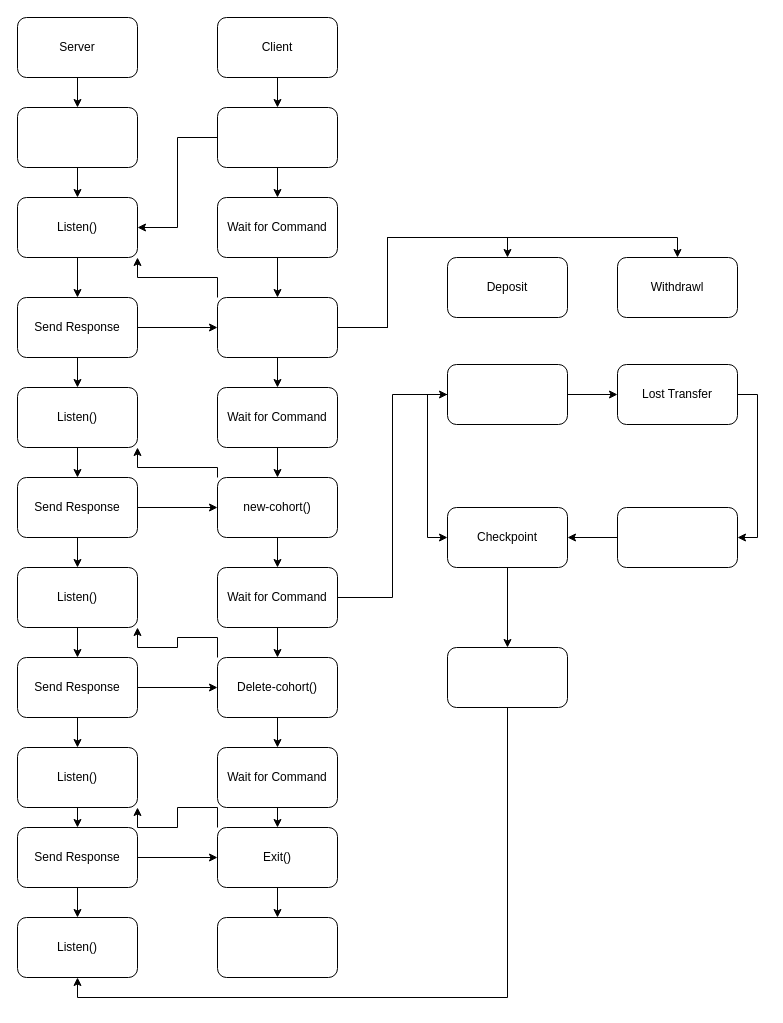
The diagram is 783 pixels wide and 1023 high, and some of its shapes have lost their labels. Each missing label, with the box of its shape:
Bind(): (16, 106, 138, 168)
close(): (216, 916, 338, 978)
Connect(): (216, 106, 338, 168)
Open(): (216, 296, 338, 358)
Rollback: (616, 506, 738, 568)
Send to Bank: (446, 646, 568, 708)
Transfer: (446, 364, 568, 424)
